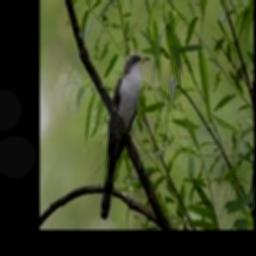Cuckoo: (100, 54, 149, 217)
